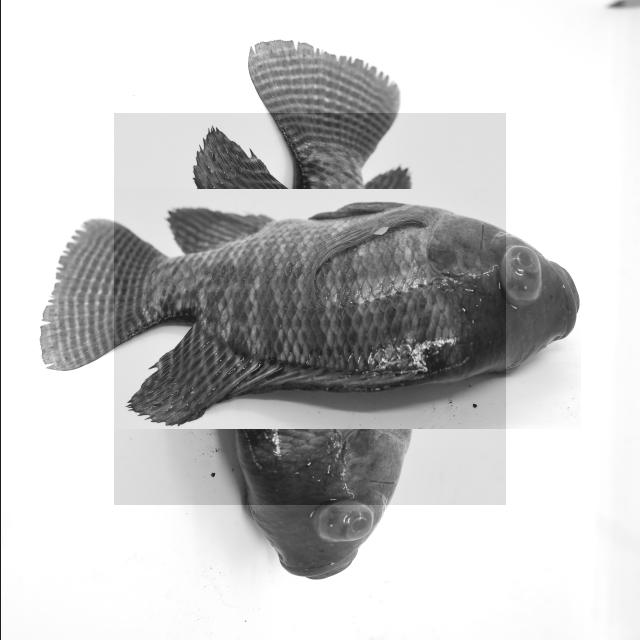streptococcus Disease: (113, 113, 505, 505)
